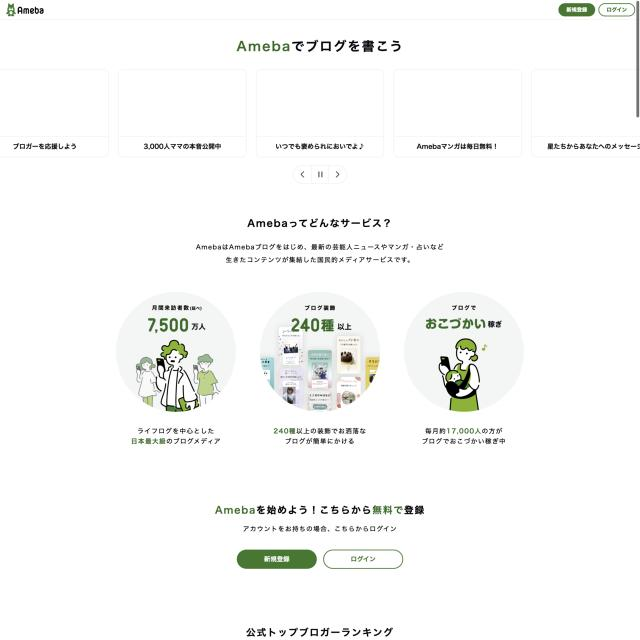CheckBox: (235, 548, 318, 570), (322, 548, 403, 570), (558, 2, 596, 17), (598, 2, 636, 16)
bag: (0, 0, 640, 20)
content: (115, 292, 237, 413)
data feed: (348, 554, 377, 565), (262, 555, 291, 563), (566, 6, 588, 13), (606, 6, 628, 13)
date picker: (5, 1, 46, 19)
dropdown: (293, 163, 348, 184)
image: (231, 36, 402, 56)
